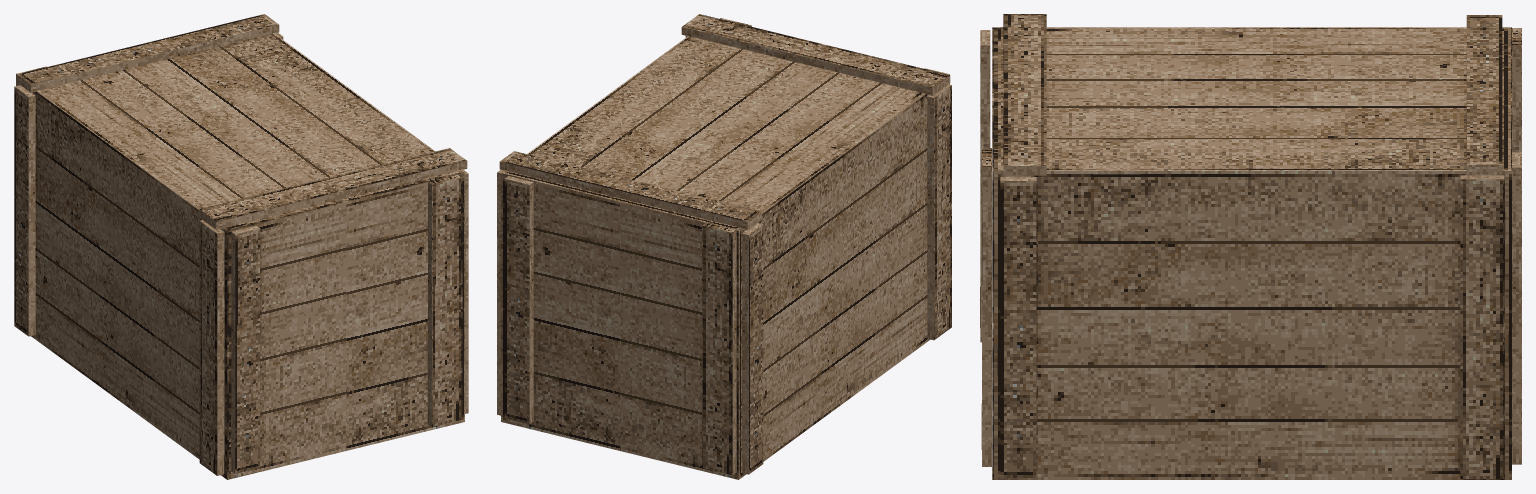
Rendered from crate.glb.
3 renders of one model, left to right at view 1: azimuth 30°, elevation 25°; view 2: azimuth 150°, elevation 25°; view 3: azimuth 270°, elevation 25°, orthographic. The views are drawn at different scales.
Parts seen in each view (by area): view 1: Cube.005; view 2: Cube.005; view 3: Cube.005.
Part boxes in pixels (x1,y1,x2,y2): Cube.005: (14, 14, 468, 479); Cube.005: (497, 14, 951, 479); Cube.005: (980, 14, 1521, 479).
Size of the model in its own units: 0.4232 by 0.4119 by 0.6361.
5 materials, 5 textured.
